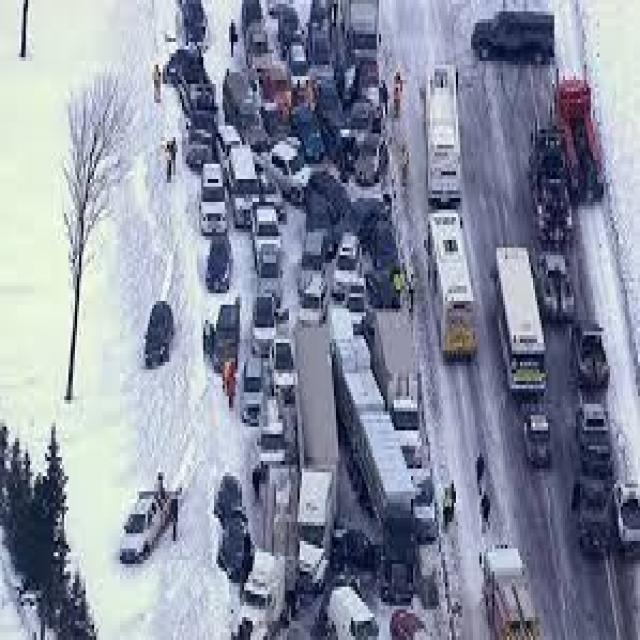traffic_incident: (126, 0, 445, 613)
